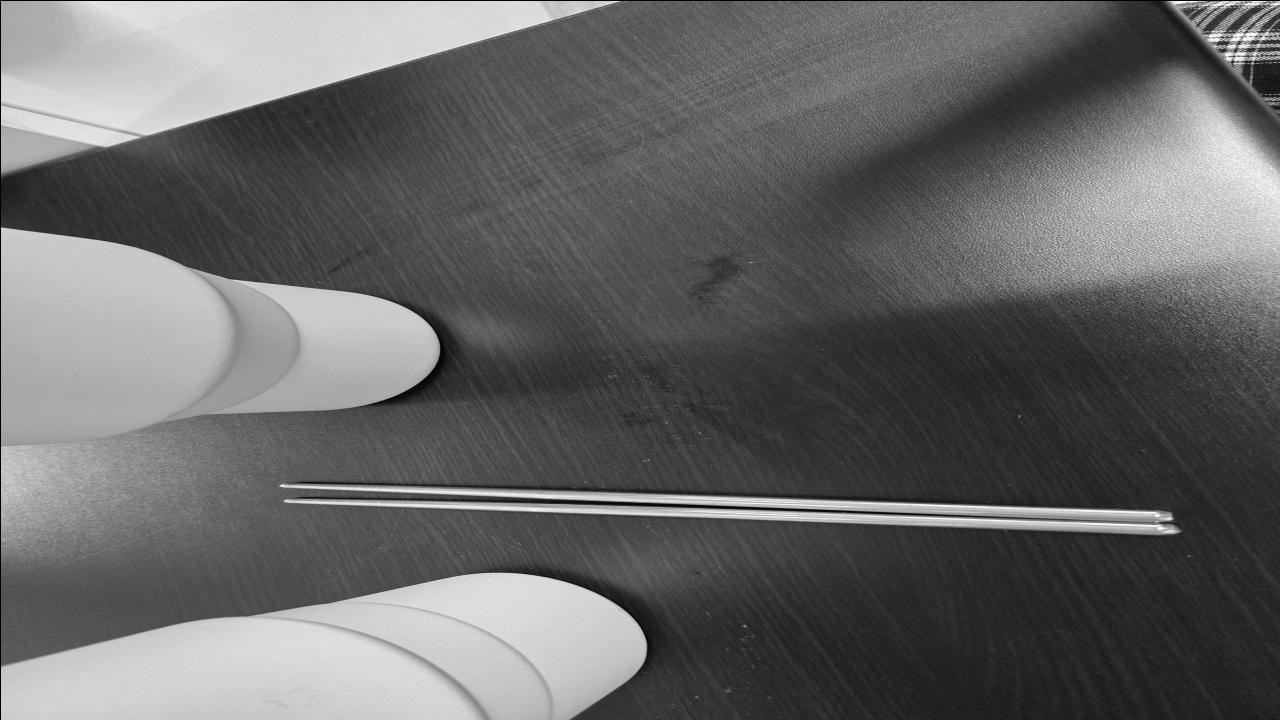chopstick: (278, 481, 1172, 536)
